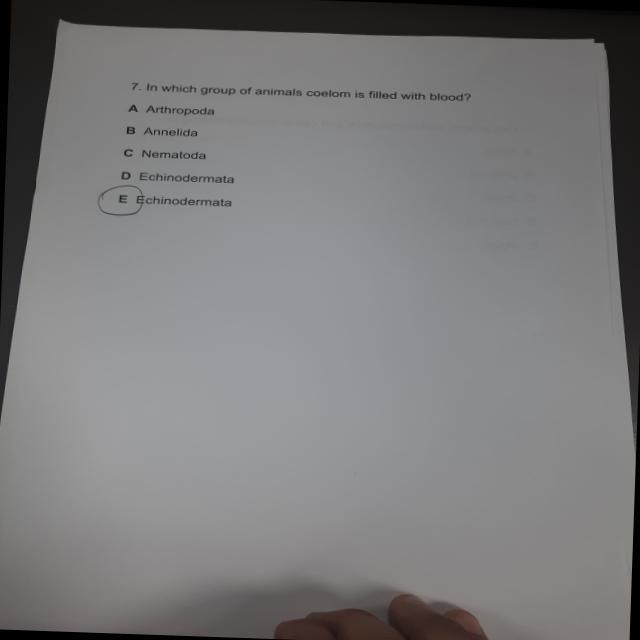E: (92, 182, 149, 220)
